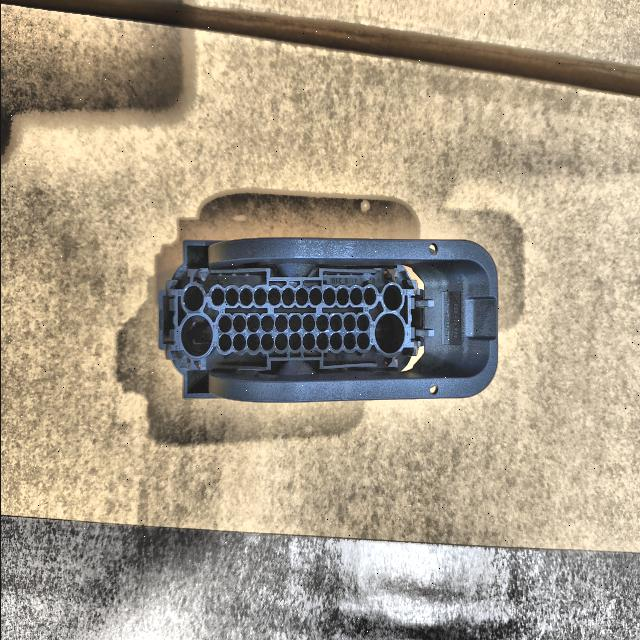P38: (157, 238, 497, 402)
